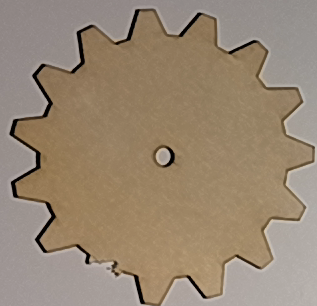Missing: (75, 248, 123, 294)
